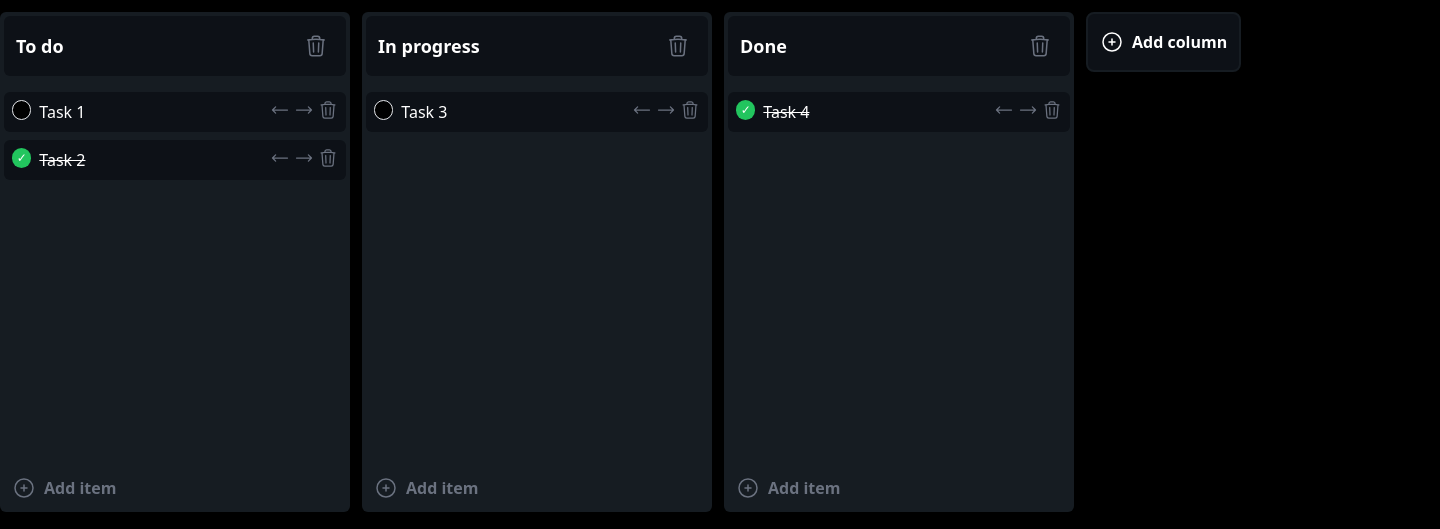
Test: KanbanBoard › when the 'Add column' button is clicked › renders an input to enter the column title
This screenshot has width=1440, height=529.
Click the button "Add column" at (1164,42), box x1=1086 y1=12 x2=1241 y2=72
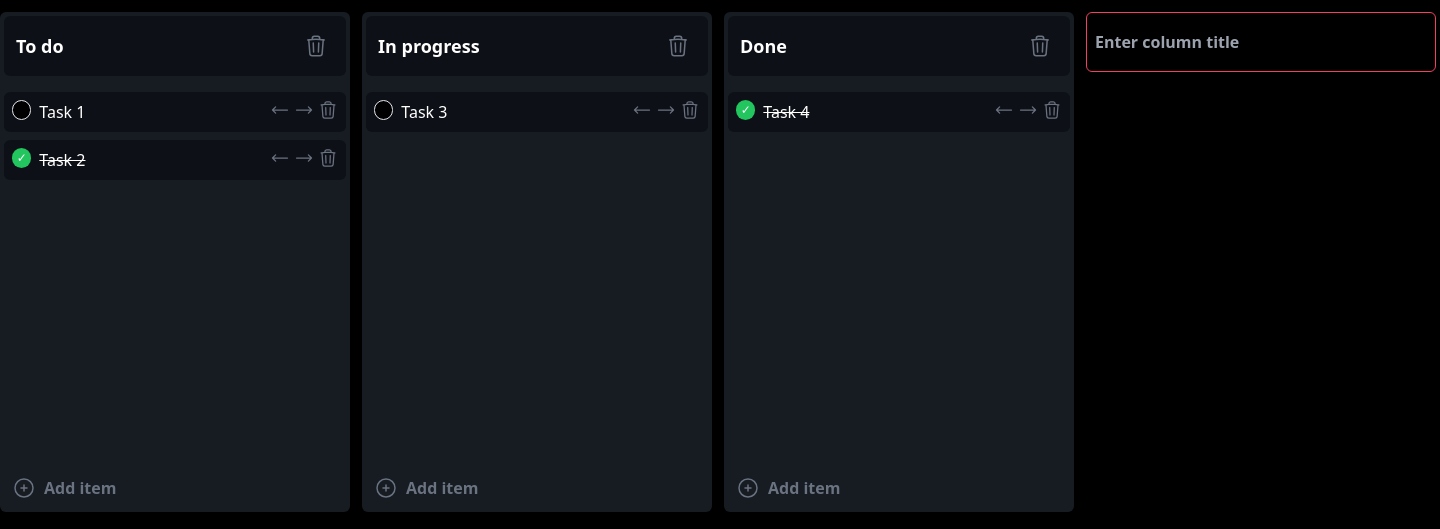
expect the field with placeholder "Enter column title" is shown: met, box x1=1086 y1=12 x2=1436 y2=72
